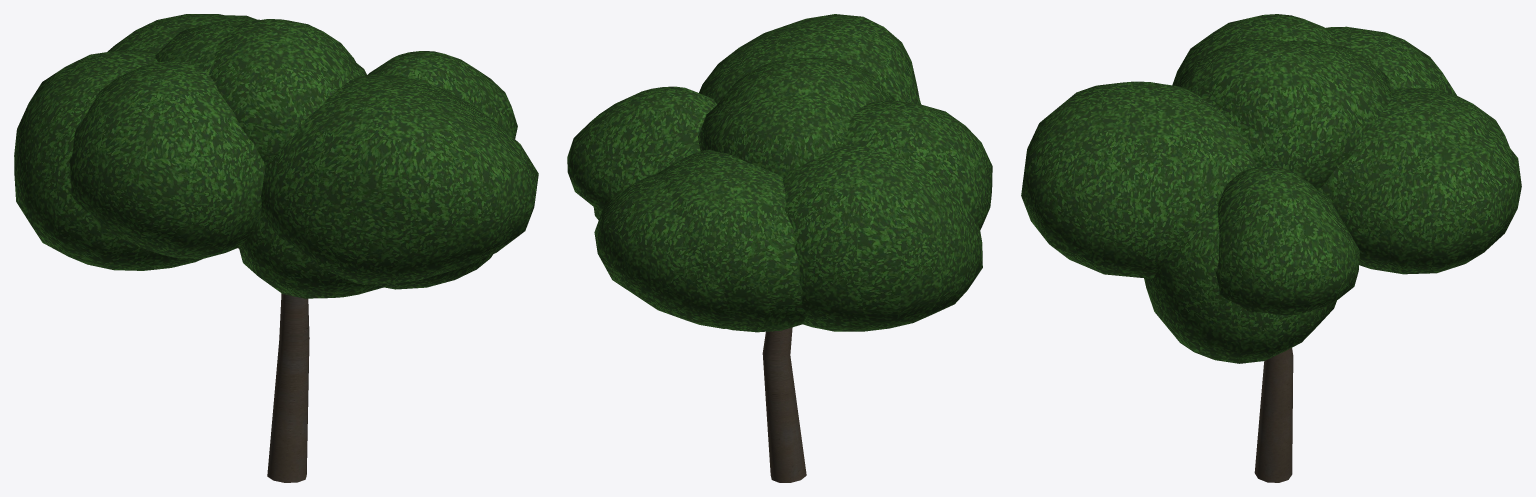
The model's file is pohon.glb.
The picture shows the model from 3 angles, left to right: view 1: azimuth 30°, elevation 25°; view 2: azimuth 150°, elevation 25°; view 3: azimuth 270°, elevation 25°; orthographic projection. The views are drawn at different scales.
Parts seen in each view (by area): view 1: pohon_daun_rimbun, pohon_kulit_kayu; view 2: pohon_daun_rimbun, pohon_kulit_kayu; view 3: pohon_daun_rimbun, pohon_kulit_kayu.
Boxes of the visible parts, <box> form: pohon_daun_rimbun: <box>14,14,538,298</box>; pohon_kulit_kayu: <box>238,247,309,482</box>; pohon_daun_rimbun: <box>567,14,992,332</box>; pohon_kulit_kayu: <box>762,327,806,482</box>; pohon_daun_rimbun: <box>1021,14,1521,363</box>; pohon_kulit_kayu: <box>1254,348,1293,482</box>.
Bounding box in the file's own units: 8.77 × 8.38 × 9.07.
2 materials, 2 textured.
